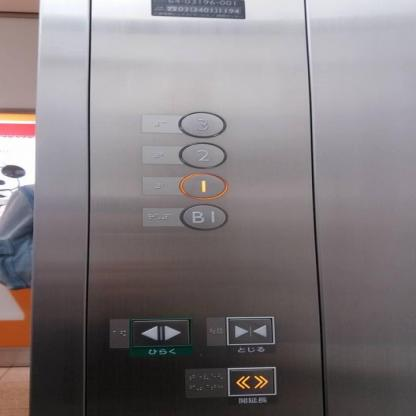1: (177, 171, 228, 200)
2: (178, 142, 227, 168)
3: (178, 111, 227, 138)
B1: (178, 202, 229, 232)
close: (221, 314, 277, 346)
open: (127, 317, 194, 348), (223, 366, 280, 398)
